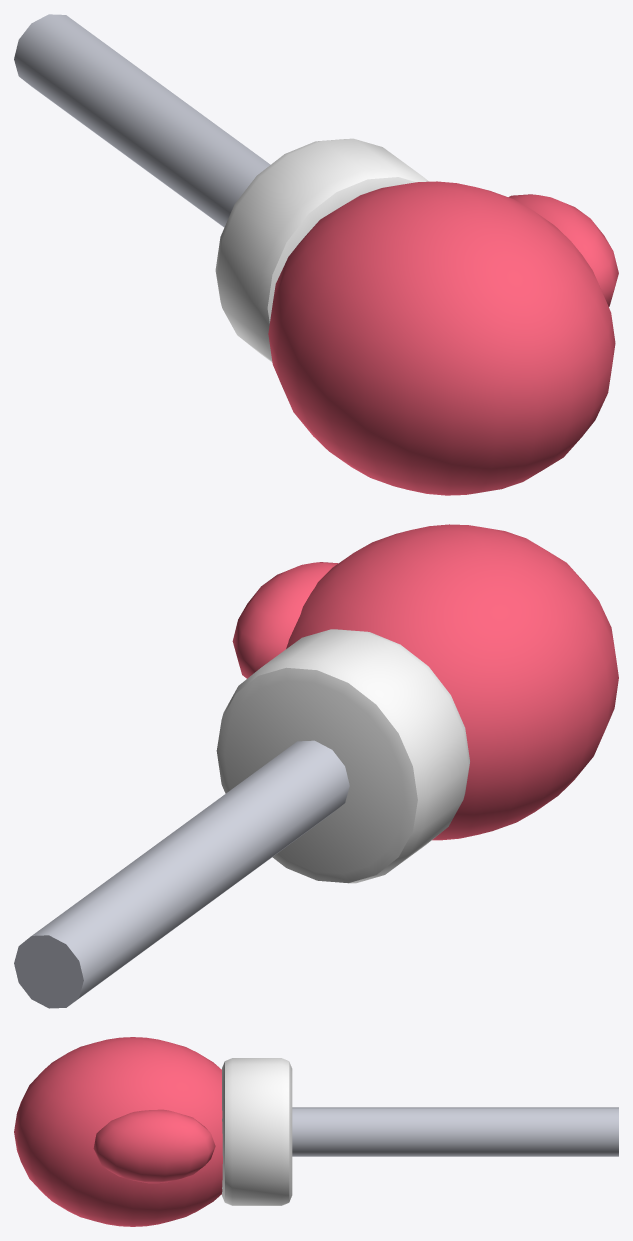
Rendered from glove.glb.
3 views of the same model, one above another, from view 1: azimuth 30°, elevation 25°; view 2: azimuth 150°, elevation 25°; view 3: azimuth 270°, elevation 25° (orthographic). The views are drawn at different scales.
Parts seen in each view (by area): view 1: GloveFist, GloveRod, GloveCuff, GloveThumb; view 2: GloveFist, GloveCuff, GloveRod, GloveThumb; view 3: GloveFist, GloveRod, GloveCuff, GloveThumb.
Part boxes in pixels (box(x1,y1,x2,y2)): GloveFist: box(268, 181, 615, 495); GloveRod: box(14, 14, 270, 227); GloveCuff: box(215, 138, 428, 361); GloveThumb: box(508, 194, 618, 306); GloveFist: box(286, 524, 618, 840); GloveCuff: box(216, 629, 469, 883); GloveRod: box(14, 740, 349, 1008); GloveThumb: box(232, 562, 337, 678); GloveFist: box(14, 1037, 222, 1226); GloveRod: box(292, 1107, 618, 1156); GloveCuff: box(222, 1058, 292, 1205); GloveThumb: box(93, 1109, 215, 1183).
Bounding box in the file's own units: 1.1 × 0.9 × 2.92.
